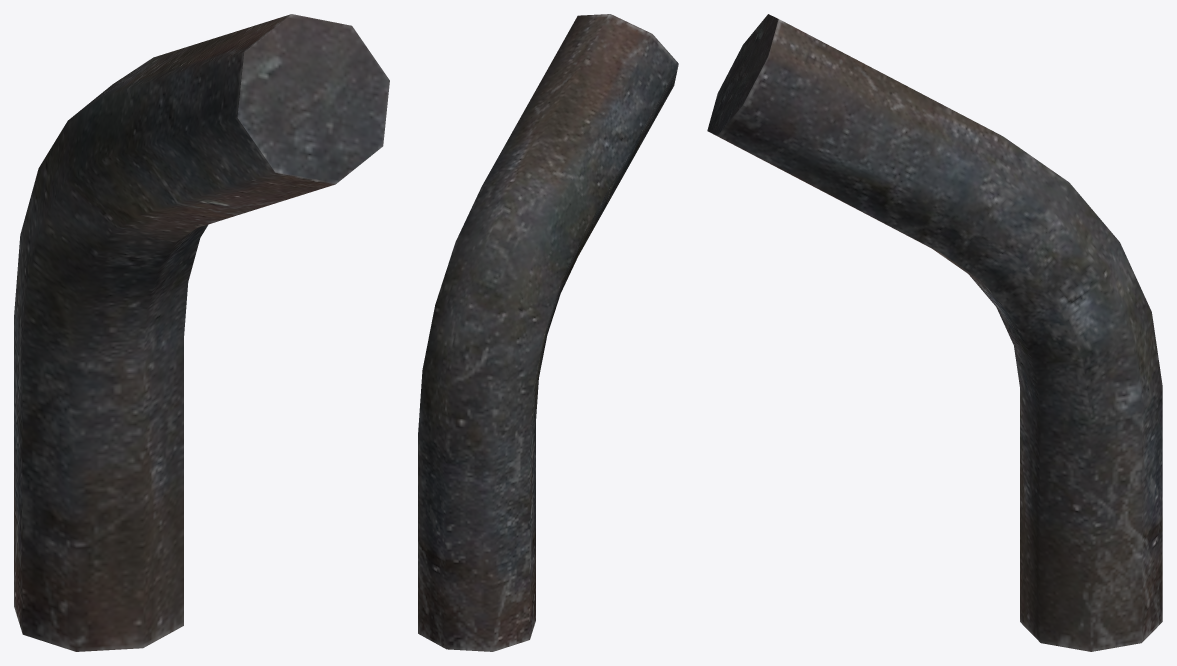
The model's file is NM_ThinTube_05.fbx.
3 renders of one model, left to right at view 1: azimuth 30°, elevation 25°; view 2: azimuth 150°, elevation 25°; view 3: azimuth 270°, elevation 25°, orthographic. The views are drawn at different scales.
Visible parts, largest first — view 1: TubeThin_60angel_low; view 2: TubeThin_60angel_low; view 3: TubeThin_60angel_low.
Boxes of the visible parts, x1,y1,x2,y2 form: TubeThin_60angel_low: (14, 14, 389, 651); TubeThin_60angel_low: (418, 14, 678, 651); TubeThin_60angel_low: (707, 14, 1162, 651).
Size of the model in its own units: 10.54 by 49.06 by 33.59.
